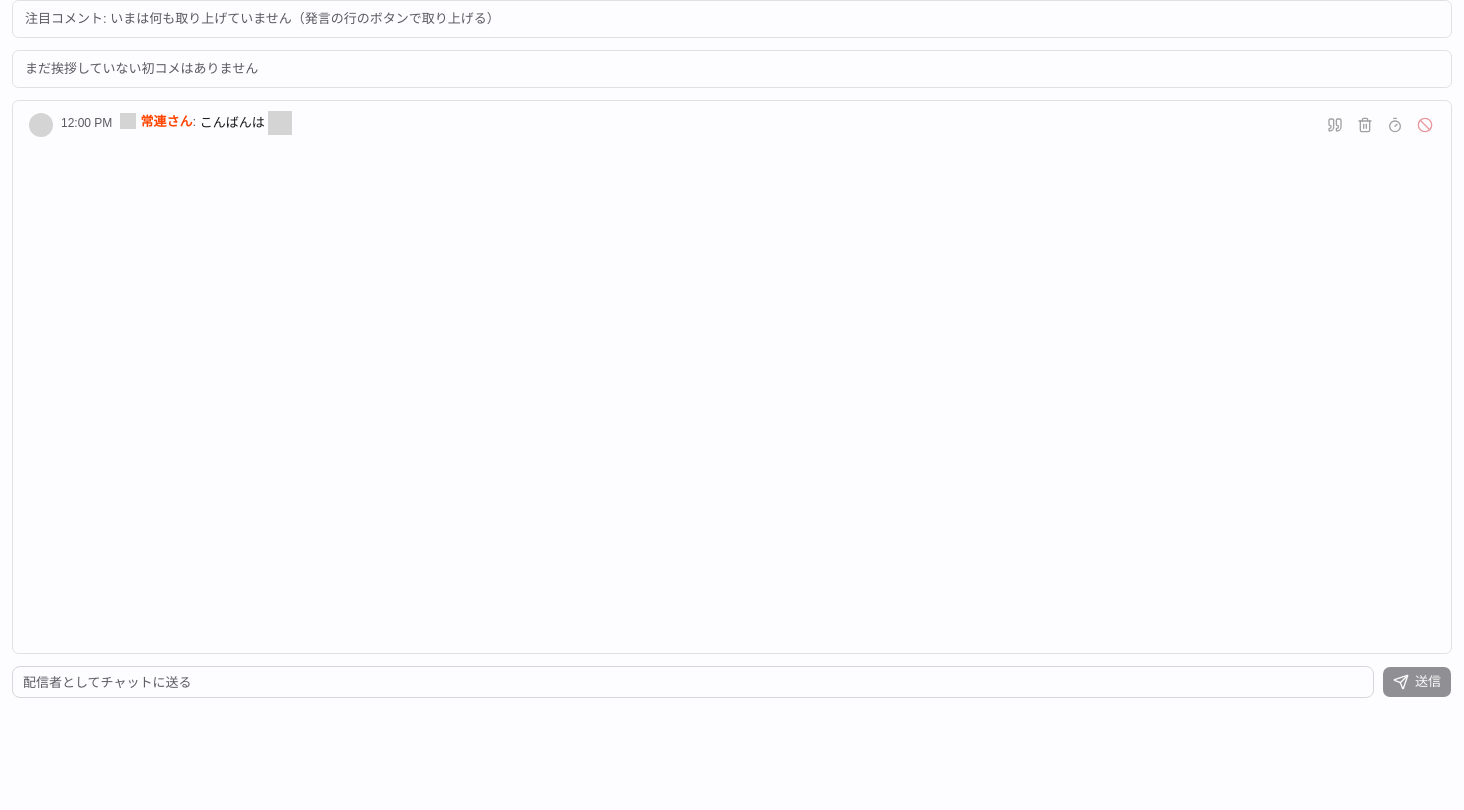
CommentsPage › 注目コメント › 取り上げている発言のボタンをもう一度押すと、取り上げをやめる
Click the button named "この発言を注目コメントにする". click: point(1335, 125)
box: [1321,111,1349,139]
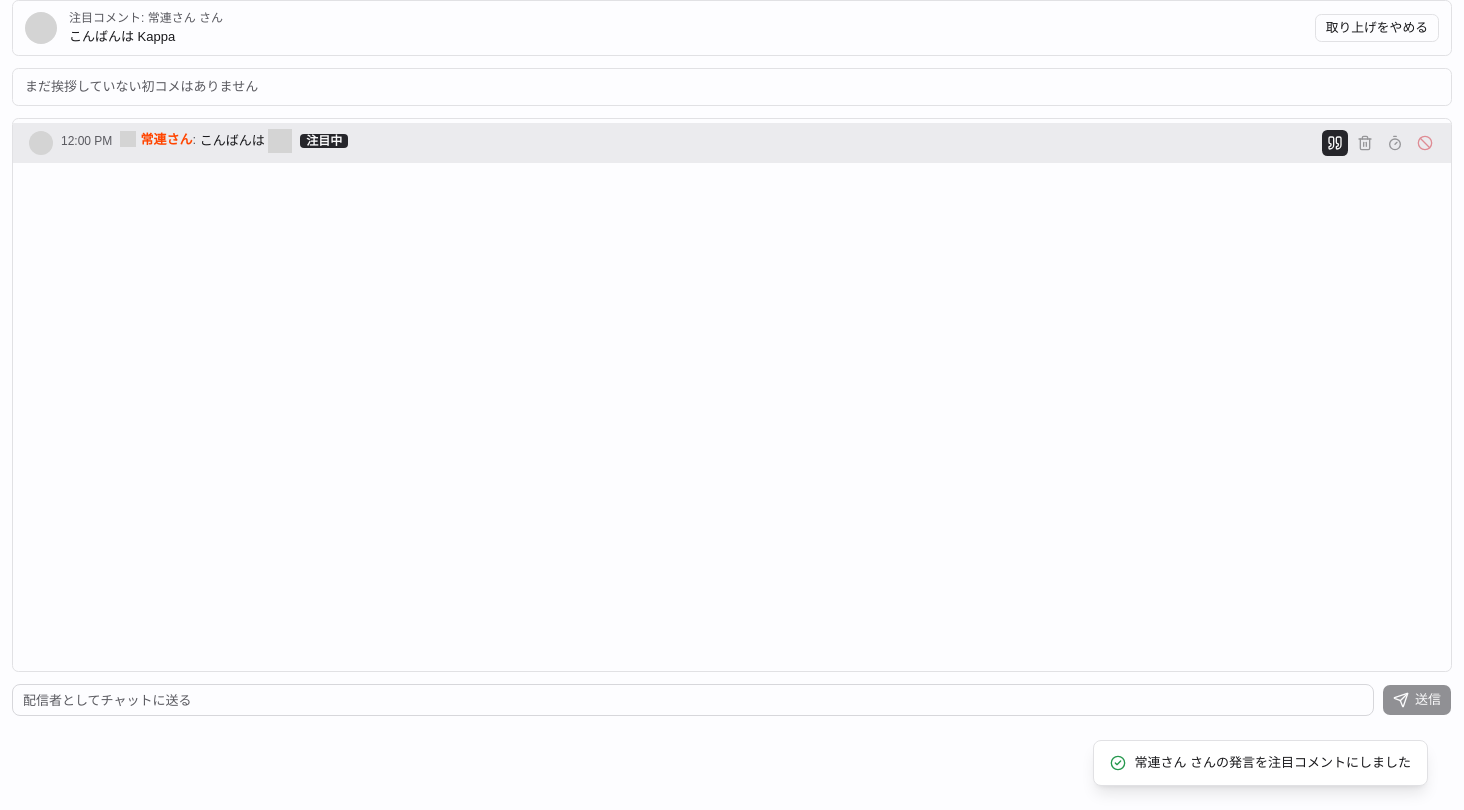
Expected: the text "常連さん さんの発言を注目コメントにしました" is shown, [1093,740,1428,786]
Click the button named "この発言を注目コメントにする". click: point(1335, 143)
box: [1321,129,1349,157]
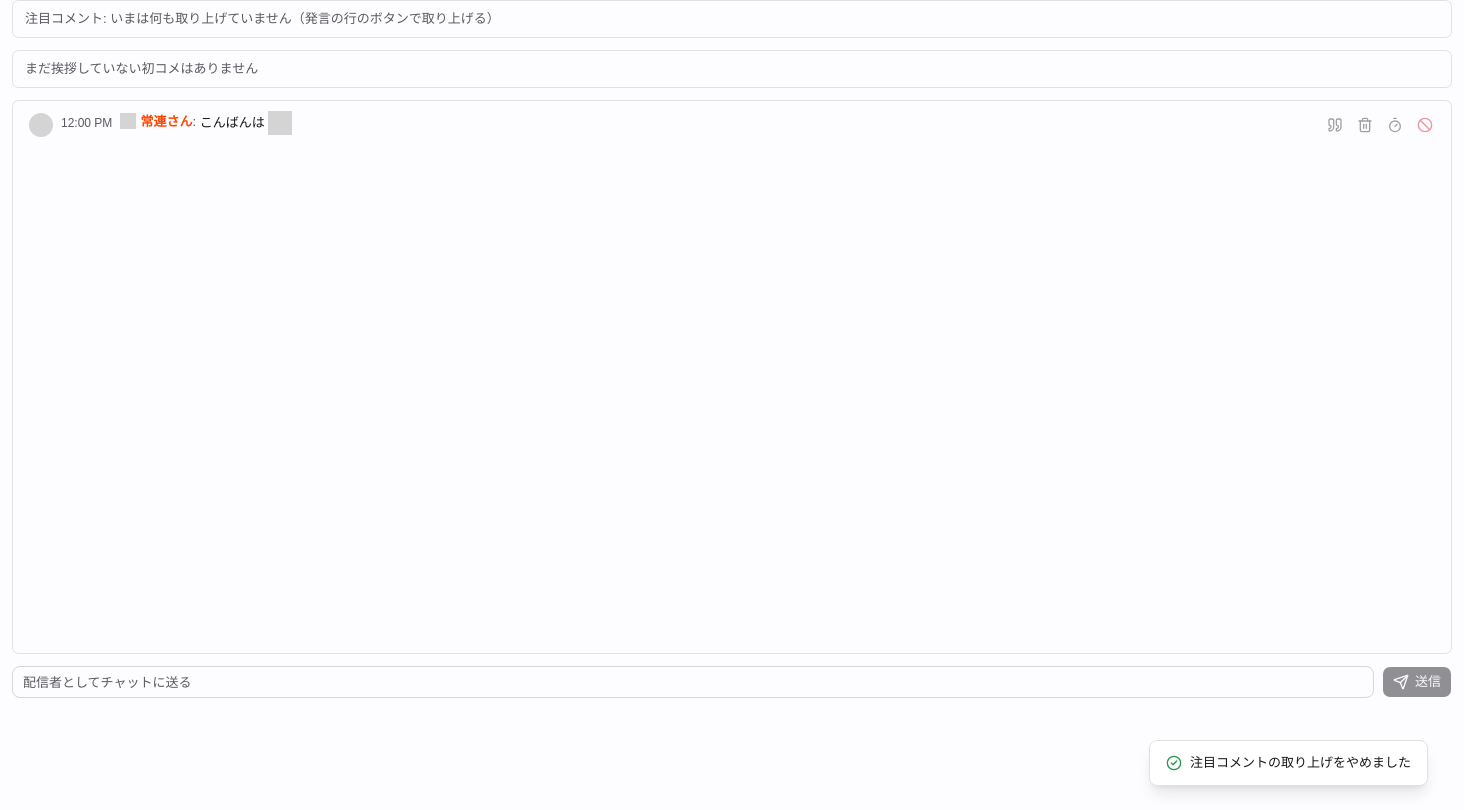
Expected: the text "注目コメントの取り上げをやめました" is shown, [1149,740,1428,786]
Expected: the list item no longer shows "注目中", [13,105,1451,145]
